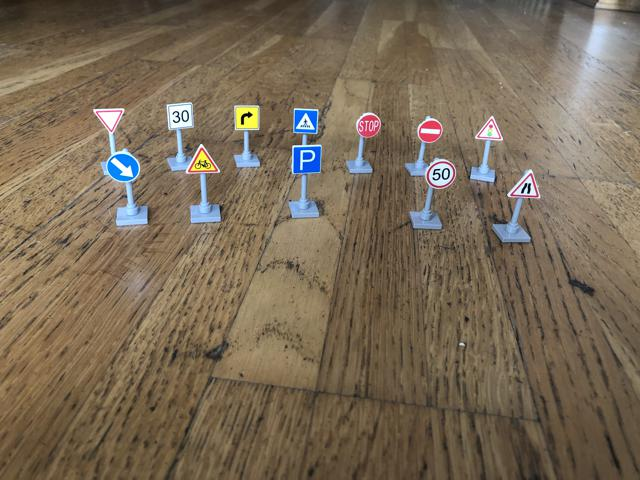fahrtrichtung rechts: (235, 102, 262, 132)
fußgängerüberweg: (291, 107, 320, 135)
lichtzeichenanlage: (474, 116, 503, 143)
parken: (290, 145, 324, 174)
radfahrer: (188, 144, 223, 173)
rechts halten: (106, 152, 140, 183)
stop: (356, 113, 382, 139)
tempolimit 30: (167, 101, 195, 132)
tempolimit 50: (426, 160, 456, 188)
verbot der einfahrt: (417, 120, 443, 145)
verengte fahrbahn: (508, 169, 540, 201)
vorfahrt gewähren: (91, 107, 127, 134)
